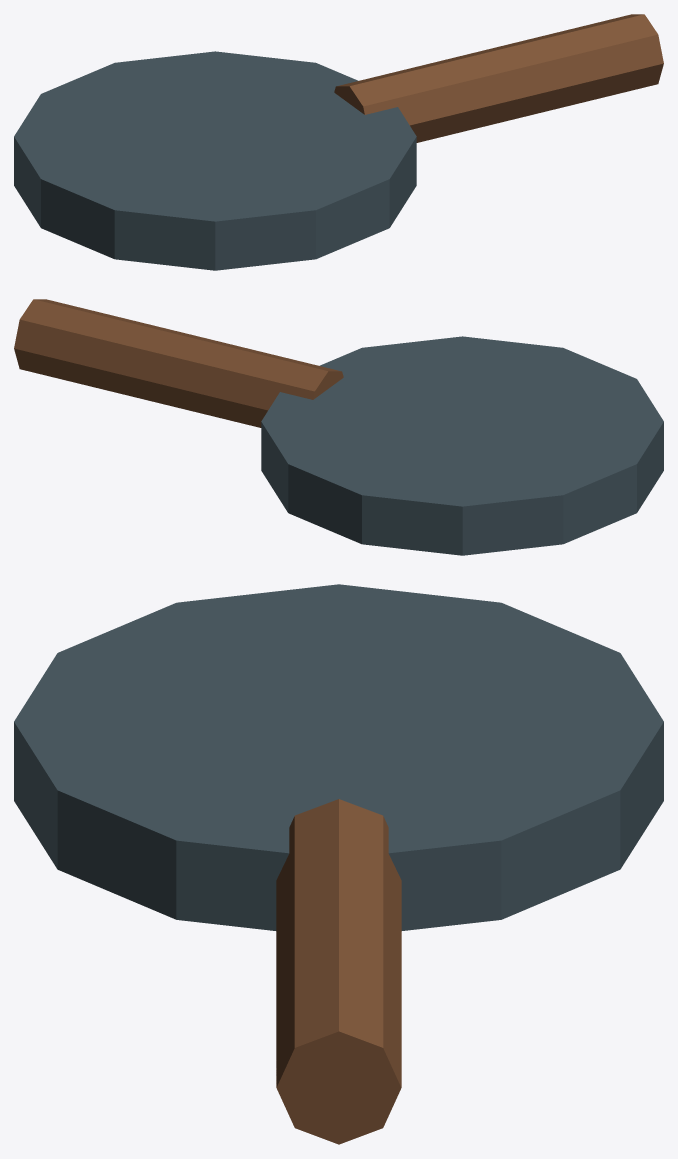
Rendered from set_frying_pan.glb.
3 views of the same model, one above another, from view 1: azimuth 30°, elevation 25°; view 2: azimuth 150°, elevation 25°; view 3: azimuth 270°, elevation 25° (orthographic). The views are drawn at different scales.
Parts seen in each view (by area): view 1: set_frying_pan; view 2: set_frying_pan; view 3: set_frying_pan.
Part boxes in pixels (left/top/right/bottom): set_frying_pan: left=14, top=14, right=663, bottom=270; set_frying_pan: left=14, top=299, right=663, bottom=555; set_frying_pan: left=14, top=584, right=663, bottom=1144.
Size of the model in its own units: 0.45 by 0.05 by 0.26.
